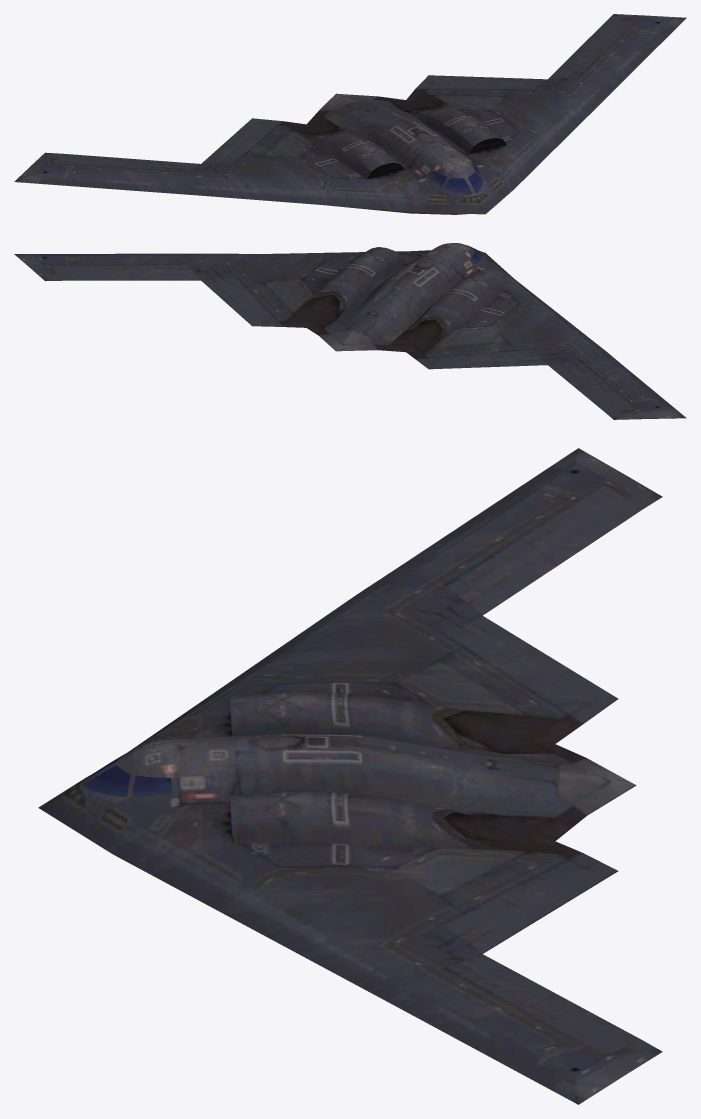
Rendered from planerevampedcollider.fbx.
3 views of the same model, one above another, from view 1: azimuth 30°, elevation 25°; view 2: azimuth 150°, elevation 25°; view 3: azimuth 270°, elevation 25° (orthographic). The views are drawn at different scales.
Parts seen in each view (by area): view 1: B-2_Spirit.005, B-2_Spirit.007, B-2_Spirit.006, B-2_Spirit.002, B-2_Spirit.001, B-2_Spirit.Window.001; view 2: B-2_Spirit.005, B-2_Spirit.006, B-2_Spirit.007, B-2_Spirit.002, B-2_Spirit.001; view 3: B-2_Spirit.005, B-2_Spirit.006, B-2_Spirit.007, B-2_Spirit.002, B-2_Spirit.001, B-2_Spirit.Window.001.
Boxes of the visible parts, x1,y1,x2,y2 form: B-2_Spirit.005: (170,76,620,214); B-2_Spirit.007: (14,152,200,193); B-2_Spirit.006: (548,14,686,82); B-2_Spirit.002: (202,118,305,163); B-2_Spirit.001: (406,75,544,99); B-2_Spirit.Window.001: (428,162,482,193); B-2_Spirit.005: (170,243,620,364); B-2_Spirit.006: (14,253,200,281); B-2_Spirit.007: (548,359,686,419); B-2_Spirit.002: (406,351,547,369); B-2_Spirit.001: (202,281,305,327); B-2_Spirit.005: (38,567,636,1007); B-2_Spirit.006: (398,954,662,1104); B-2_Spirit.007: (399,448,662,615); B-2_Spirit.002: (483,616,618,743); B-2_Spirit.001: (483,841,618,953); B-2_Spirit.Window.001: (83,755,172,796).
Bounding box in the file's own units: 51.93 × 20.87 × 3.67.
